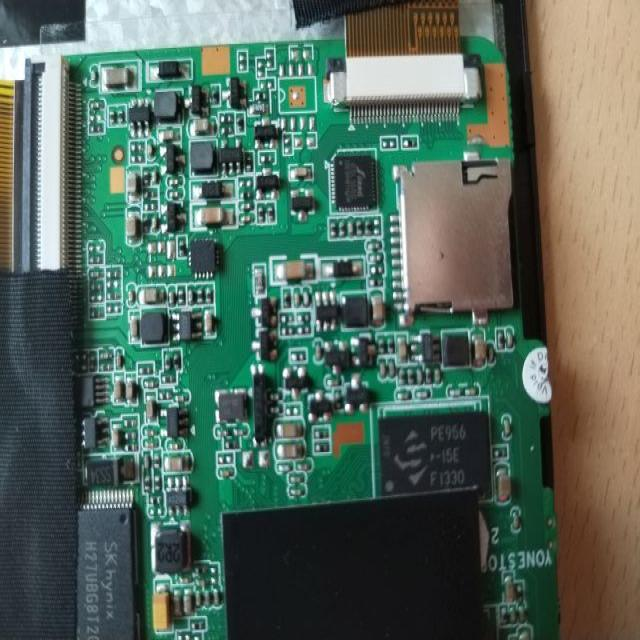capacitor: (96, 56, 143, 97), (269, 251, 322, 284), (151, 574, 173, 640), (190, 205, 242, 232), (368, 286, 393, 339), (496, 459, 518, 517), (121, 202, 144, 249), (470, 321, 488, 379), (273, 436, 308, 465), (270, 415, 312, 439), (160, 451, 198, 477), (121, 164, 142, 209), (176, 584, 202, 618), (287, 158, 319, 185), (499, 568, 521, 607), (108, 372, 128, 410), (124, 312, 145, 347), (136, 285, 170, 306), (393, 326, 409, 368), (143, 392, 163, 425), (126, 369, 140, 408)
